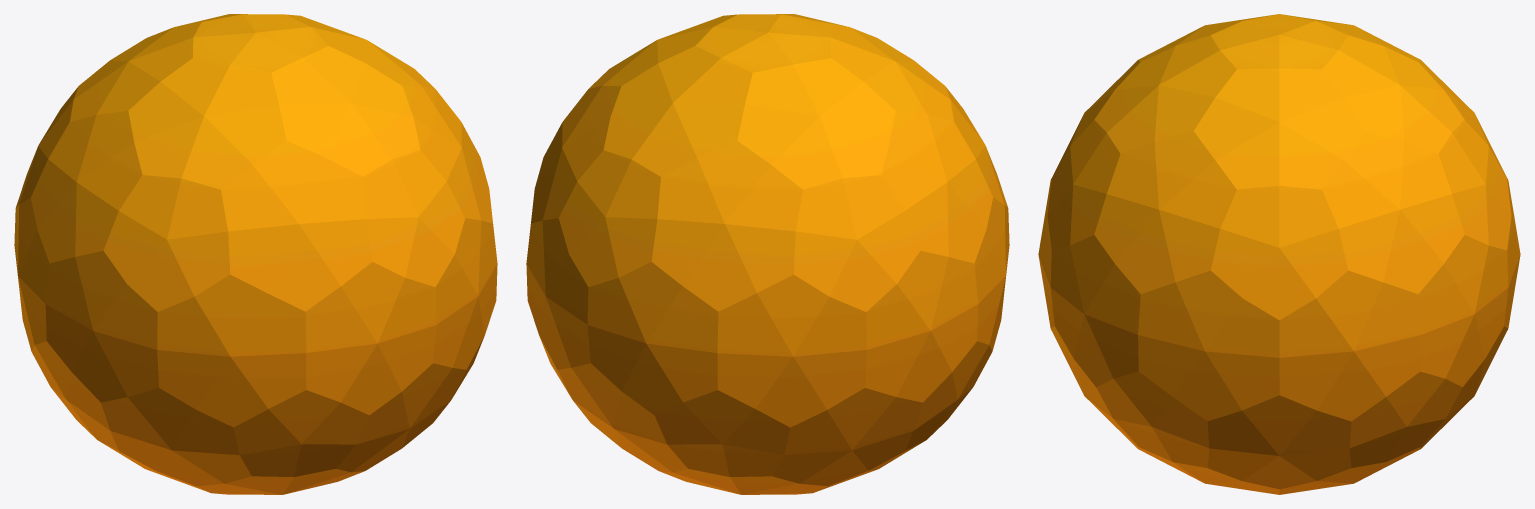
The model's file is ball.fbx.
3 views of the same model, side by side, from view 1: azimuth 30°, elevation 25°; view 2: azimuth 150°, elevation 25°; view 3: azimuth 270°, elevation 25° (orthographic).
Parts seen in each view (by area): view 1: ball; view 2: ball; view 3: ball.
Boxes of the visible parts, x1,y1,x2,y2 form: ball: (14, 14, 497, 494); ball: (526, 14, 1009, 494); ball: (1038, 14, 1520, 494).
Size of the model in its own units: 185 by 186 by 185.
